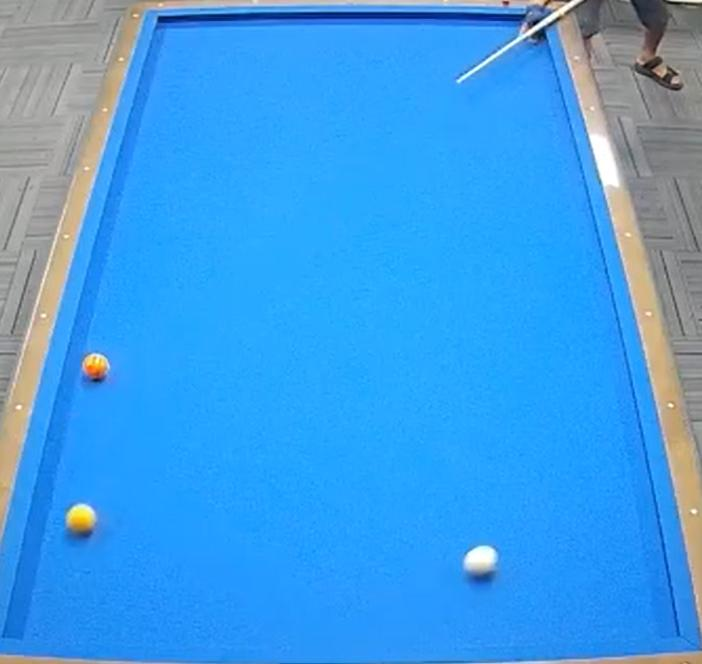orange ball: (77, 347, 116, 386)
white ball: (456, 541, 505, 589)
yellow ball: (62, 501, 105, 539)
